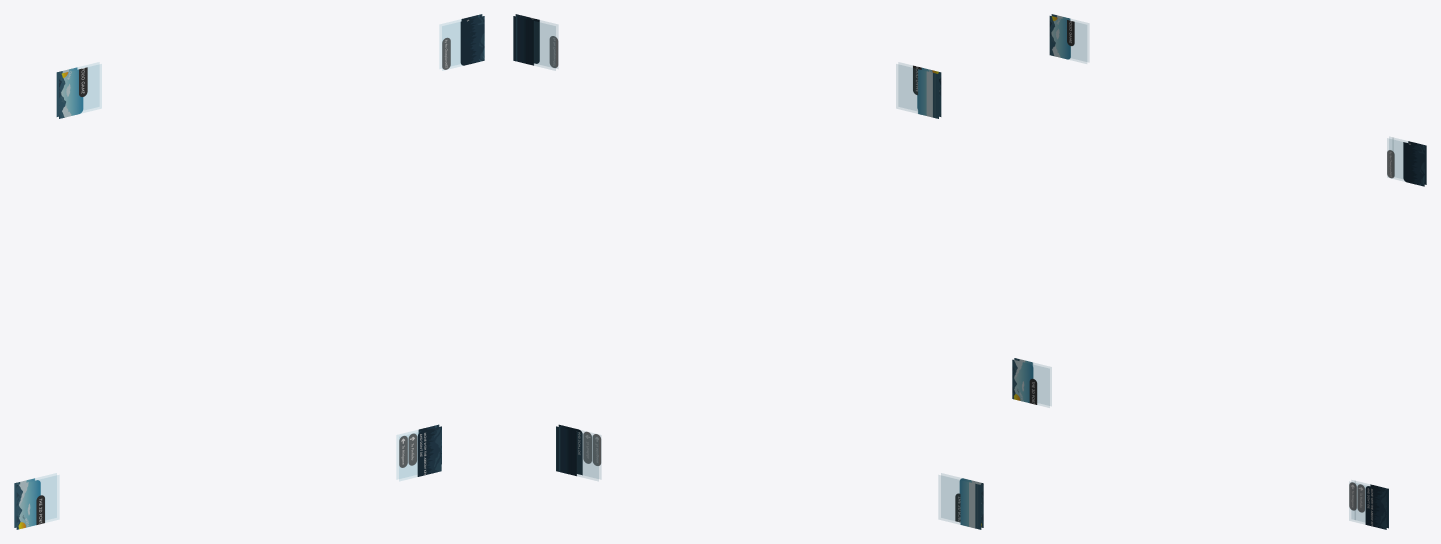
Rendered from panel-1-pc.gltf.
3 views of the same model, side by side, from view 1: azimuth 30°, elevation 25°; view 2: azimuth 150°, elevation 25°; view 3: azimuth 330°, elevation 25° (orthographic). The views are drawn at different scales.
Visible parts, largest first — view 1: Cube.002_cell.007, Cube.002_cell.003, Cube.002_cell, Cube.002_cell.006; view 2: Cube.002_cell.007, Cube.002_cell.006, Cube.002_cell, Cube.002_cell.003; view 3: Cube.002_cell.003, Cube.002_cell.006, Cube.002_cell, Cube.002_cell.007.
Boxes of the visible parts, x1,y1,x2,y2 form: Cube.002_cell.007: (56,62,101,118); Cube.002_cell.003: (14,473,58,529); Cube.002_cell: (397,424,441,480); Cube.002_cell.006: (440,14,484,70); Cube.002_cell.007: (896,62,941,118); Cube.002_cell.006: (513,14,558,70); Cube.002_cell: (556,424,601,480); Cube.002_cell.003: (939,473,983,529); Cube.002_cell.003: (1012,358,1051,407); Cube.002_cell.006: (1387,137,1426,186); Cube.002_cell: (1349,480,1388,529); Cube.002_cell.007: (1049,14,1088,63).
Bounding box in the file's own units: 10.9 × 10.92 × 0.1.
Materials: 1 (1 with a texture image).
